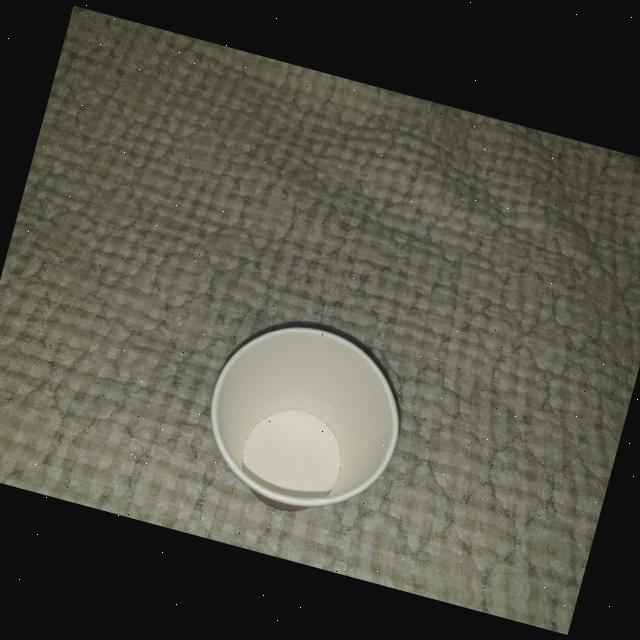trash: (178, 300, 426, 540)
